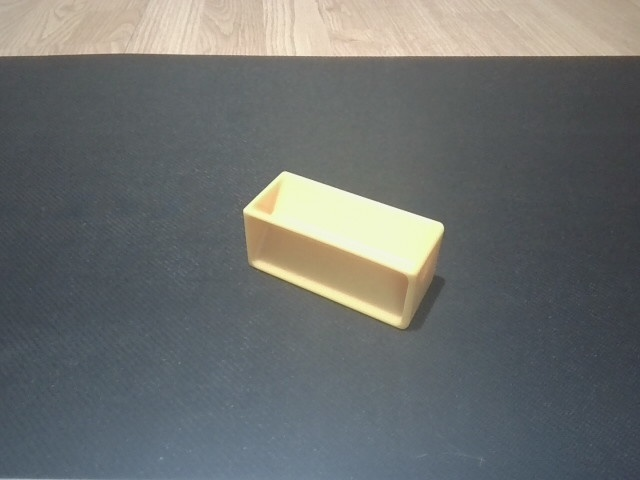YellowSample: (241, 169, 445, 330)
